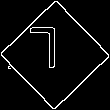L_S: (39, 29, 71, 81)
